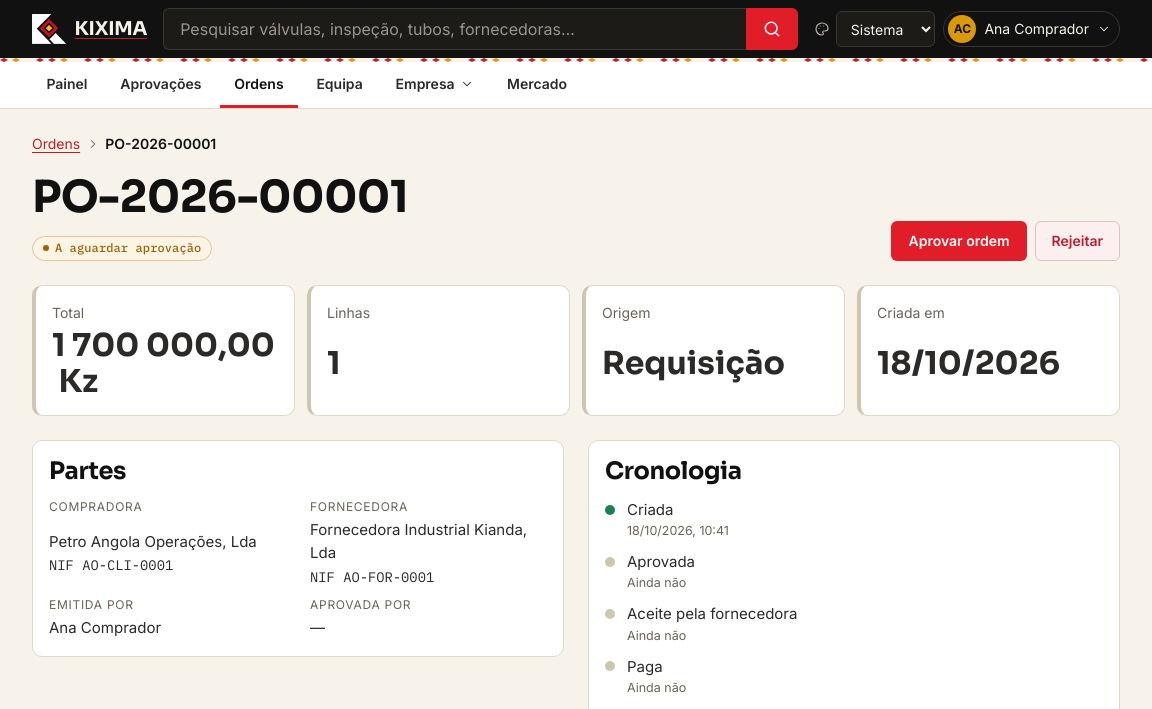
Test: ficha da ordem: ações por papel e estado › um 409 do servidor aparece como mensagem e a ficha continua utilizável
Click the button "Aprovar ordem" at (959,241), box [892,221,1027,261]
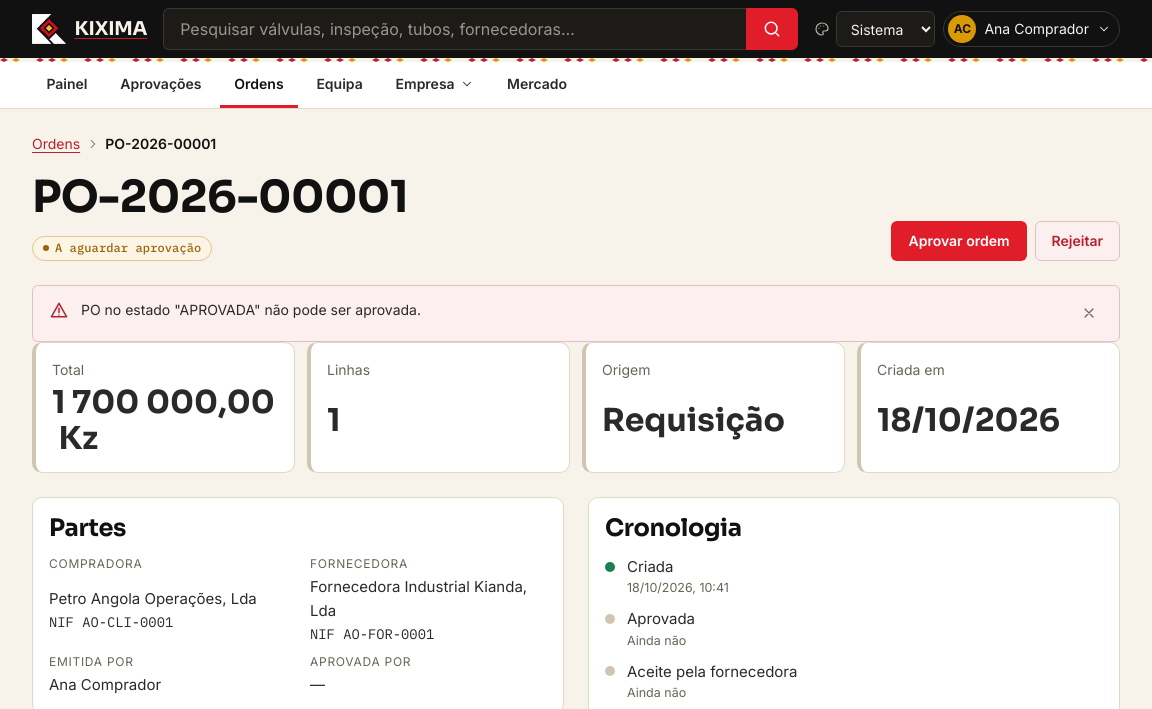
Check: the text "PO no estado \"APROVADA\" não pode ser aprovada." is shown, box [81,302,421,318]
